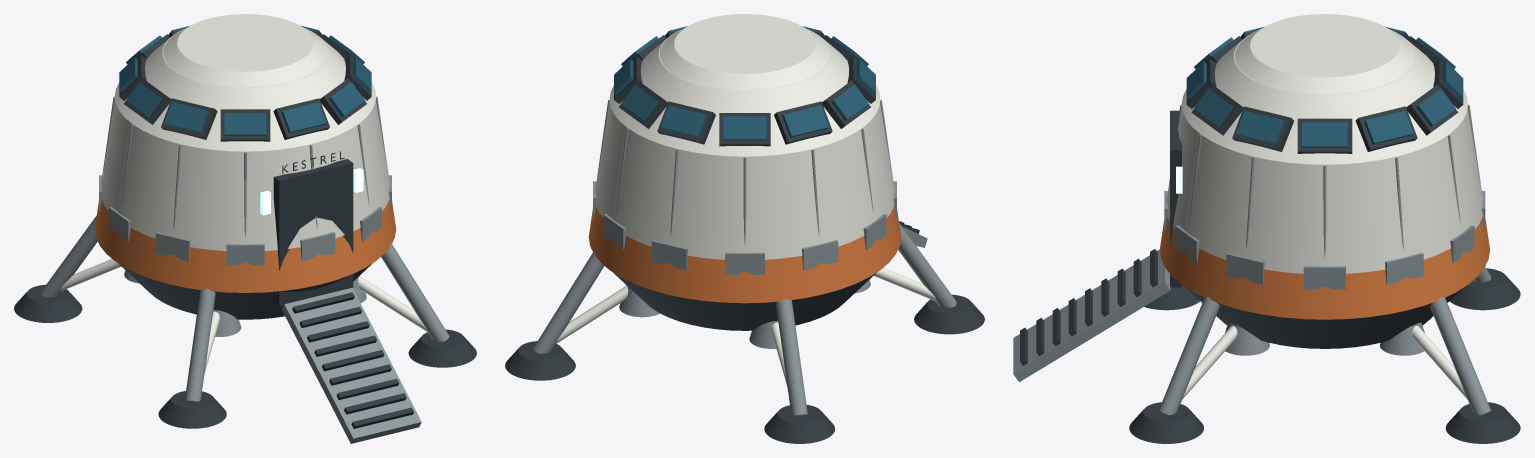
File: kestrel.glb
3 views of the same model, side by side, from view 1: azimuth 30°, elevation 25°; view 2: azimuth 150°, elevation 25°; view 3: azimuth 270°, elevation 25° (orthographic). The views are drawn at different scales.
Visible parts, largest first — view 1: Descent cabin.002, Descent cabin.001, Descent cabin.003, Descent cabin.004, Boarding ramp, Airlock recess, Descent cabin, Shock absorber.002, Landing shoe.002, Landing shoe.003, Landing shoe.001, Shock absorber.003 (+28 smaller); view 2: Descent cabin.002, Descent cabin.001, Descent cabin.003, Descent cabin.004, Descent cabin, Shock absorber.001, Landing shoe.001, Landing shoe, Landing shoe.002, Shock absorber, Shock absorber.002, Laminated window.007 (+18 smaller); view 3: Descent cabin.002, Descent cabin.001, Descent cabin.004, Descent cabin.003, Descent cabin, Boarding ramp, Shock absorber, Shock absorber.003, Landing shoe.003, Landing shoe, Landing shoe.001, Laminated window.003 (+22 smaller).
Part boxes in pixels (<box>): Descent cabin.002: <box>101,99,389,251</box>; Descent cabin.001: <box>94,200,396,292</box>; Descent cabin.003: <box>114,29,376,151</box>; Descent cabin.004: <box>163,14,327,87</box>; Boarding ramp: <box>282,287,421,443</box>; Airlock recess: <box>273,159,353,306</box>; Descent cabin: <box>118,263,372,319</box>; Shock absorber.002: <box>185,288,215,401</box>; Landing shoe.002: <box>158,391,226,428</box>; Landing shoe.003: <box>408,329,476,367</box>; Landing shoe.001: <box>14,284,82,322</box>; Shock absorber.003: <box>381,243,449,341</box>; Descent cabin.002: <box>595,103,894,259</box>; Descent cabin.001: <box>588,206,901,303</box>; Descent cabin.003: <box>609,29,880,156</box>; Descent cabin.004: <box>659,14,830,90</box>; Descent cabin: <box>613,272,876,330</box>; Shock absorber.001: <box>775,298,807,415</box>; Landing shoe.001: <box>764,405,834,443</box>; Landing shoe: <box>505,341,575,380</box>; Landing shoe.002: <box>914,294,984,334</box>; Shock absorber: <box>533,252,603,353</box>; Shock absorber.002: <box>898,223,956,307</box>; Laminated window.007: <box>723,116,766,140</box>; Descent cabin.002: <box>1166,107,1483,273</box>; Descent cabin.001: <box>1159,217,1489,319</box>; Descent cabin.004: <box>1234,14,1415,94</box>; Descent cabin.003: <box>1181,29,1467,164</box>; Descent cabin: <box>1185,287,1464,348</box>; Boarding ramp: <box>1013,249,1170,382</box>; Shock absorber: <box>1429,296,1491,415</box>; Shock absorber.003: <box>1158,296,1219,415</box>; Landing shoe.003: <box>1129,402,1203,443</box>; Landing shoe: <box>1445,402,1520,443</box>; Landing shoe.001: <box>1449,268,1520,310</box>; Laminated window.003: <box>1302,122,1347,147</box>.
Bounding box in the file's own units: 4.81 × 4.32 × 6.23.
